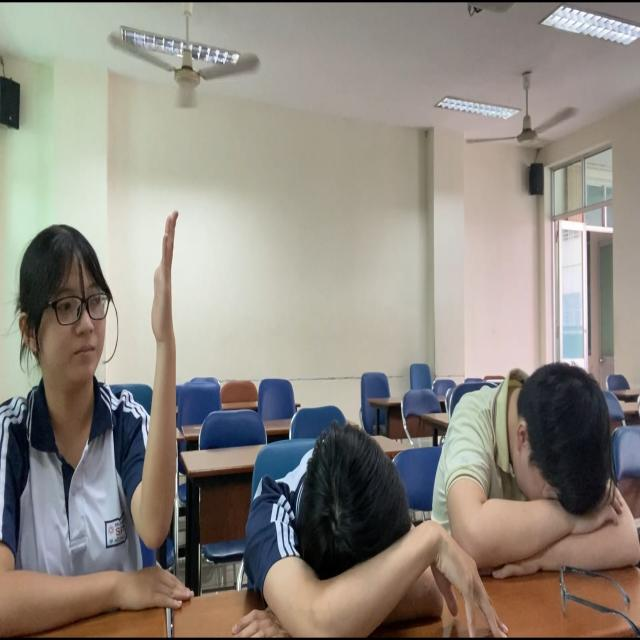raise_hand: (2, 208, 197, 624)
sleep: (244, 420, 445, 640), (442, 358, 640, 573)
